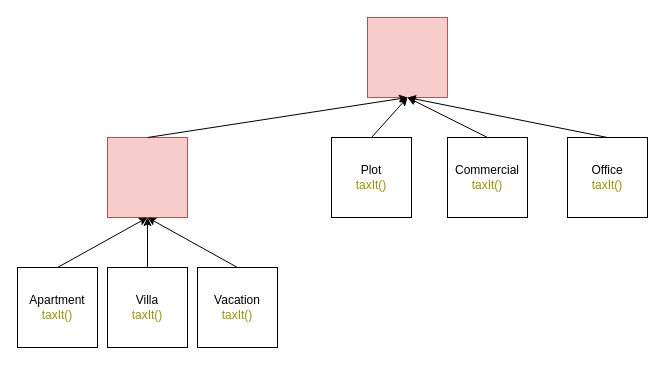
Image size: 665x365. Some labels were removed from this diagram. Each missing label, with the centre of its shape:
(abstract) Property taxIt(): (407,57)
(abstract) Residential * taxIt(): (147,177)
